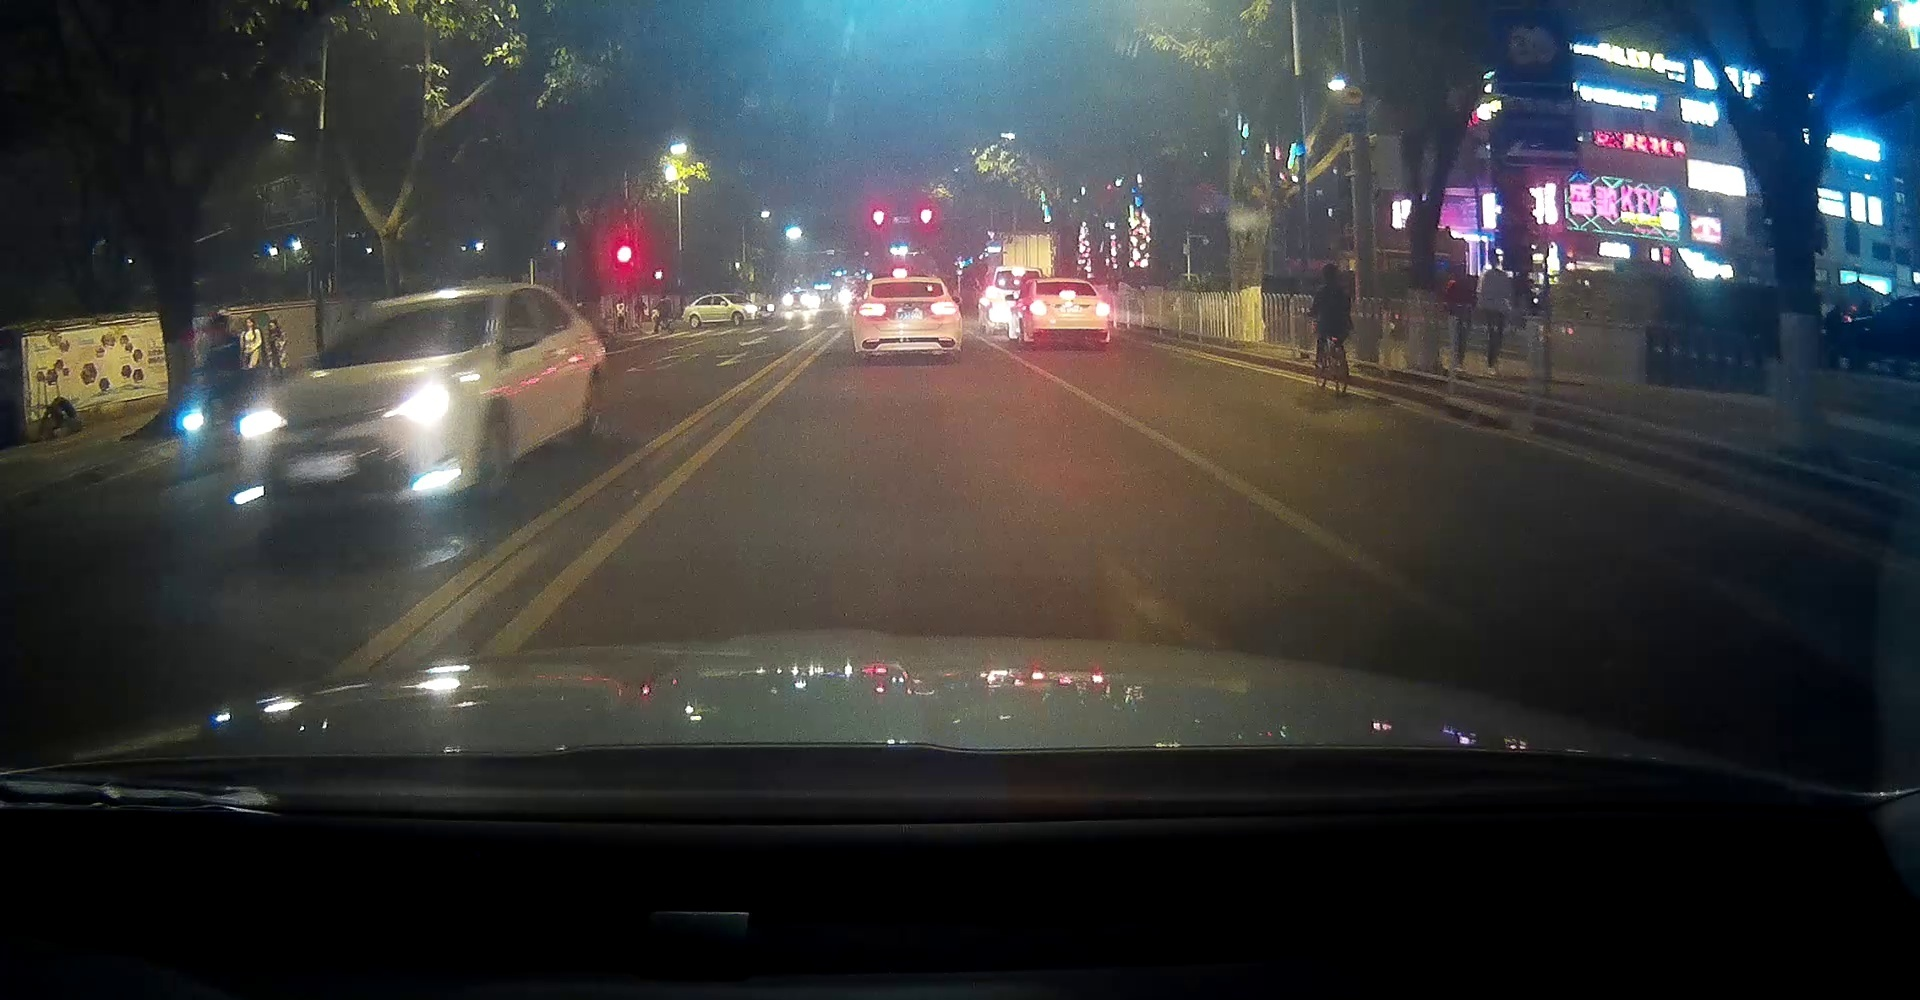L_light: (858, 302, 889, 319), (1030, 299, 1048, 315)
R_light: (926, 302, 960, 317), (1096, 302, 1110, 316)
T_light: (900, 283, 919, 289), (1059, 291, 1076, 297)
night-brake: (1029, 279, 1110, 346)
night-no: (855, 275, 963, 362)
